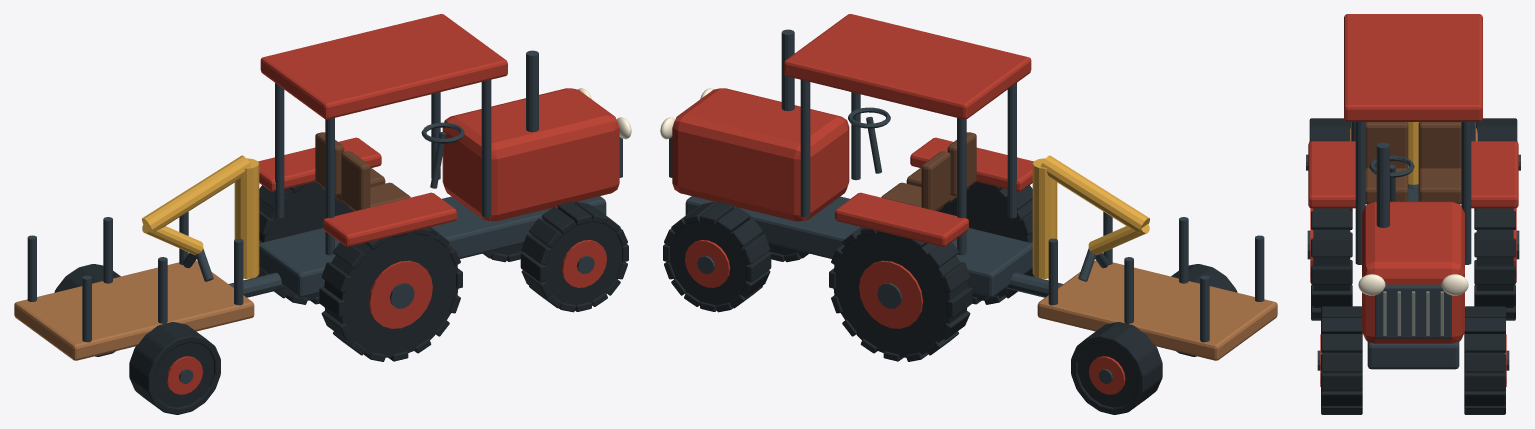
Rendered from timber-tractor.glb.
3 renders of one model, left to right at view 1: azimuth 30°, elevation 25°; view 2: azimuth 150°, elevation 25°; view 3: azimuth 270°, elevation 25°, orthographic. The views are drawn at different scales.
Visible parts, largest first — view 1: Red bonnet, Red cab roof, Empty trailer bed, Tire, Chassis, Rear mudguard, Tire.001, Red hub, Tire.002, Yellow crane base, Folded boom, Rear mudguard.001 (+18 smaller); view 2: Red bonnet, Red cab roof, Empty trailer bed, Tire.002, Chassis, Rear mudguard.001, Tire.003, Red hub.002, Tire, Yellow crane base, Folded boom, Rear mudguard (+18 smaller); view 3: Red cab roof, Red bonnet, Front grille, Rear mudguard, Rear mudguard.001, Chassis, Seat back.001, Seat back, Cab seat.001, Open cab pillar.001, Open cab pillar.003, Exhaust (+34 smaller).
Boxes of the visible parts, x1=… form: Red bonnet: x1=442, y1=88, x2=619, y2=221; Red cab roof: x1=260, y1=14, x2=507, y2=119; Empty trailer bed: x1=14, y1=260, x2=254, y2=360; Tire: x1=324, y1=231, x2=458, y2=357; Chassis: x1=259, y1=196, x2=606, y2=297; Rear mudguard: x1=323, y1=192, x2=456, y2=246; Tire.001: x1=532, y1=220, x2=623, y2=305; Red hub: x1=369, y1=260, x2=432, y2=328; Tire.002: x1=259, y1=181, x2=353, y2=300; Yellow crane base: x1=234, y1=158, x2=259, y2=278; Folded boom: x1=142, y1=155, x2=251, y2=233; Rear mudguard.001: x1=258, y1=137, x2=381, y2=191; Red bonnet: x1=672, y1=88, x2=849, y2=221; Red cab roof: x1=784, y1=14, x2=1031, y2=119; Empty trailer bed: x1=1037, y1=260, x2=1277, y2=360; Tire.002: x1=833, y1=231, x2=967, y2=357; Chassis: x1=685, y1=196, x2=1032, y2=297; Rear mudguard.001: x1=835, y1=192, x2=968, y2=246; Tire.003: x1=668, y1=220, x2=759, y2=305; Red hub.002: x1=859, y1=260, x2=922, y2=328; Tire: x1=938, y1=181, x2=1032, y2=300; Yellow crane base: x1=1032, y1=158, x2=1057, y2=278; Folded boom: x1=1040, y1=155, x2=1149, y2=233; Rear mudguard: x1=910, y1=137, x2=1033, y2=191; Red cab roof: x1=1344, y1=14, x2=1482, y2=121; Red bonnet: x1=1362, y1=201, x2=1464, y2=343; Front grille: x1=1375, y1=284, x2=1451, y2=338; Rear mudguard: x1=1308, y1=141, x2=1355, y2=208; Rear mudguard.001: x1=1471, y1=141, x2=1518, y2=208; Chassis: x1=1367, y1=188, x2=1459, y2=369; Seat back.001: x1=1418, y1=122, x2=1461, y2=169; Seat back: x1=1365, y1=122, x2=1408, y2=168; Cab seat.001: x1=1418, y1=168, x2=1461, y2=204; Open cab pillar.001: x1=1355, y1=122, x2=1365, y2=264; Open cab pillar.003: x1=1461, y1=122, x2=1471, y2=264; Exhaust: x1=1376, y1=142, x2=1389, y2=227.
Bounding box in the file's own units: 4.77 × 2.08 × 1.5.
